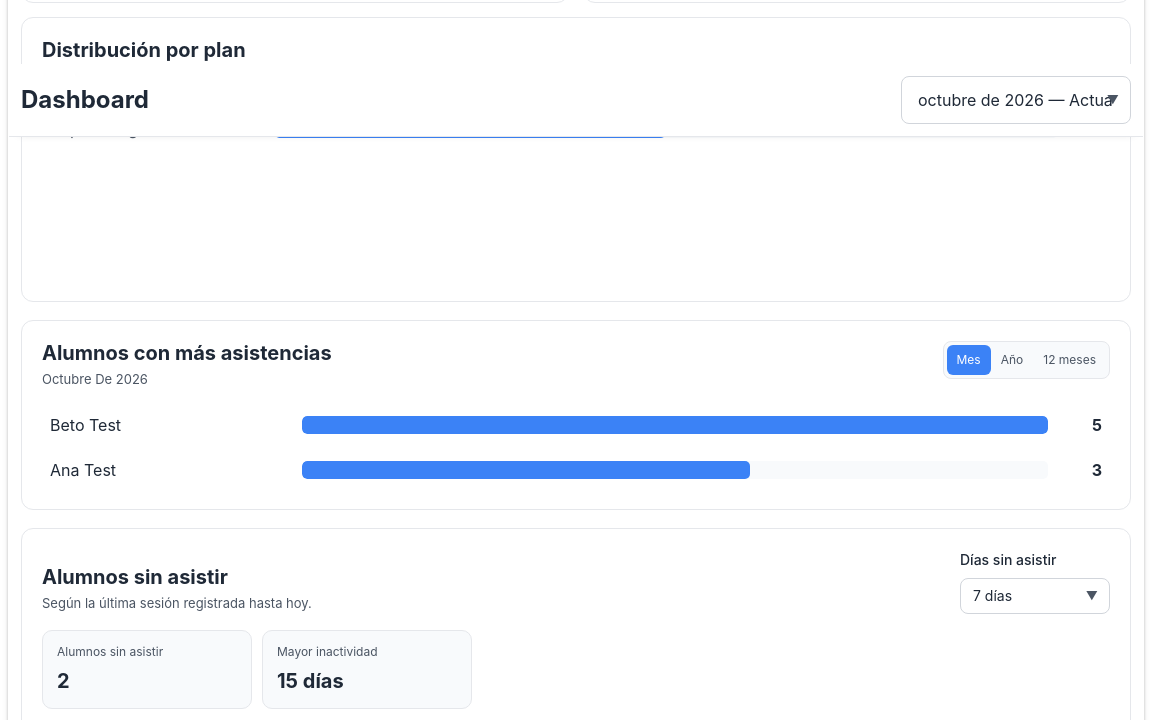
it: alterna Mes, Año y 12 meses sin modificar el selector global
The width and height of the screenshot is (1152, 720).
(page scrolled)
Check: the text "octubre de 2026" is shown, box [42,371,148,387]
Click the button "Año". click: {"x": 1012, "y": 360}
box: [991,345,1033,375]
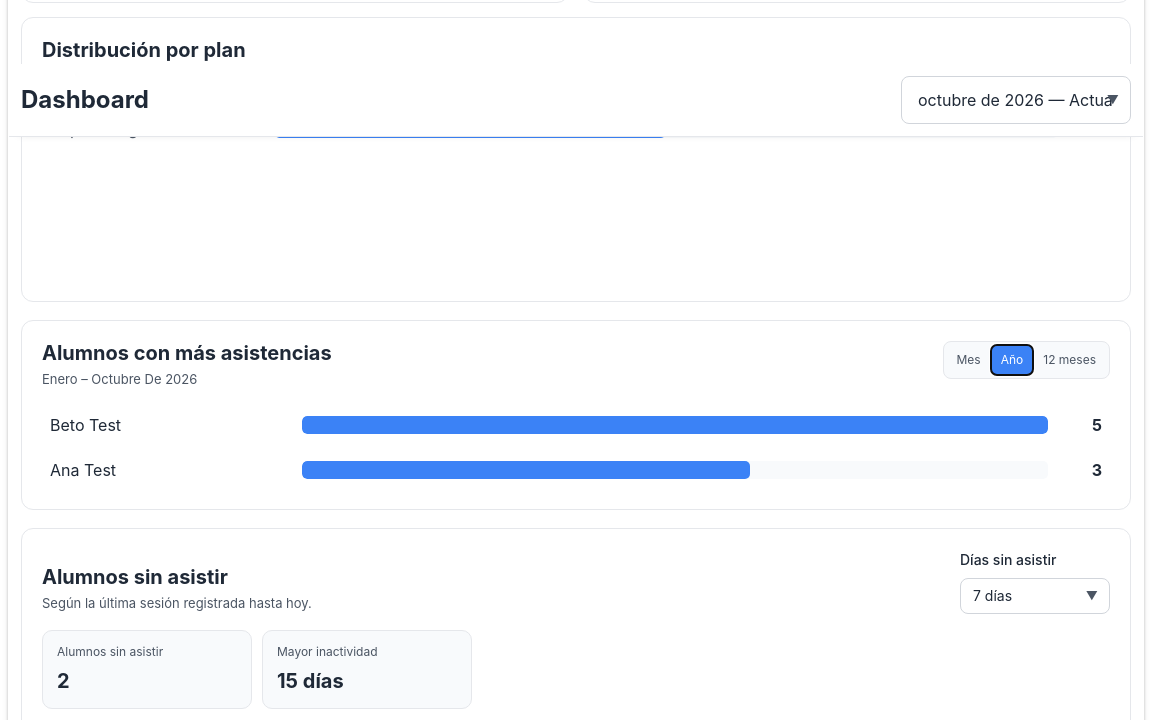
Check: the text "enero – octubre de 2026" is shown, box [42,371,197,387]
Click the button "12 meses". click: {"x": 1070, "y": 360}
box: [1033,345,1106,375]
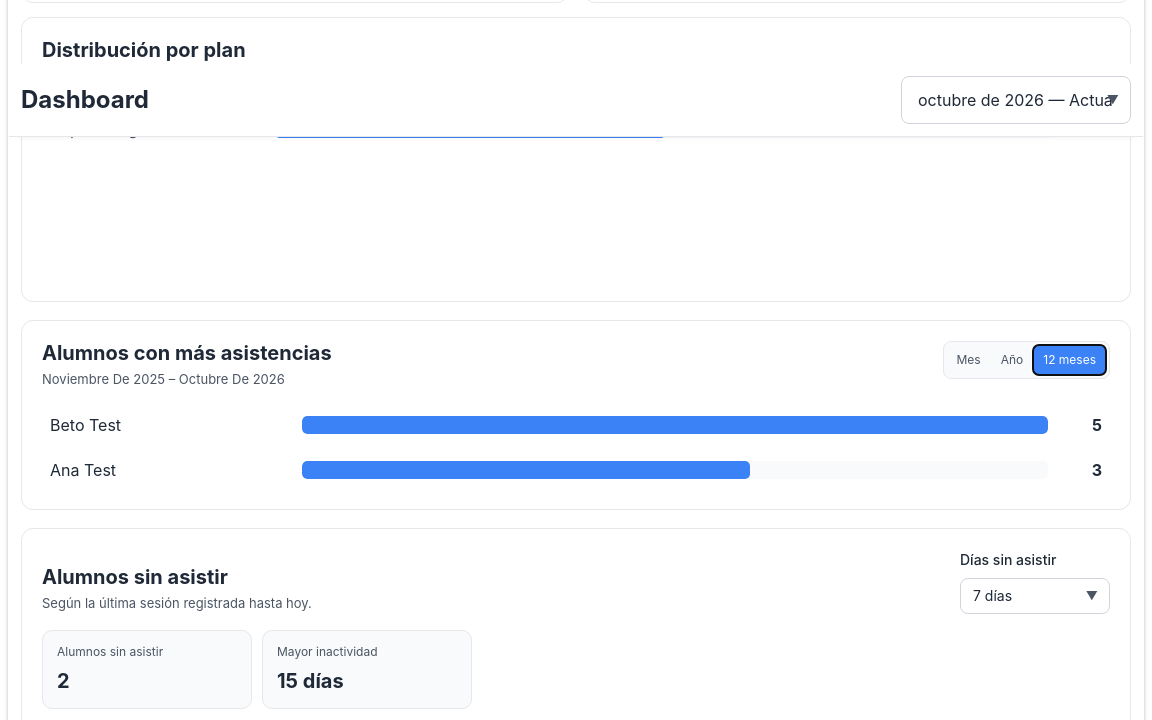
Check: the dropdown named "Período" shows "octubre de 2026 — Actual", box [901,76,1131,124]
Check: the text "noviembre de 2025 – octubre de 2026" is shown, box [42,371,285,387]
